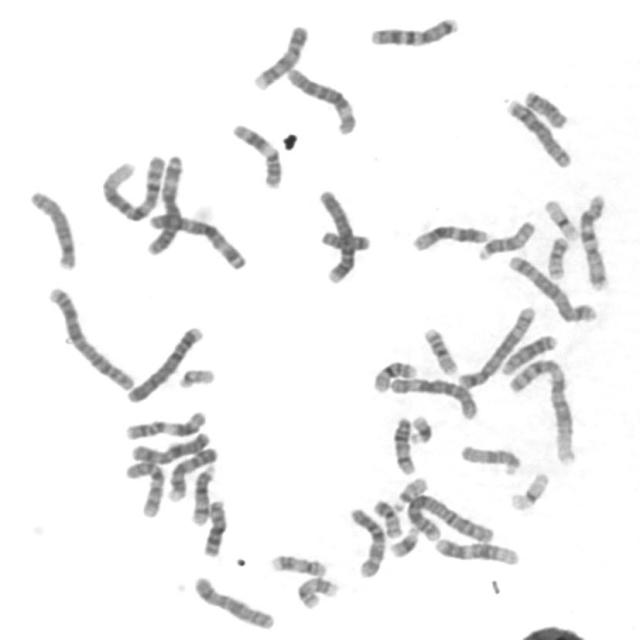A1: (504, 354, 579, 466), (96, 151, 167, 223)
A2: (43, 281, 136, 392), (401, 489, 496, 545)
A3: (142, 208, 248, 272), (142, 150, 186, 256)
B4: (122, 321, 205, 405), (313, 184, 358, 285)
B5: (454, 301, 538, 390), (504, 250, 599, 324)
C10: (344, 502, 388, 580), (120, 455, 166, 520)
C11: (227, 119, 284, 190), (120, 406, 208, 442)
C12: (429, 534, 521, 568), (407, 220, 491, 252)
C6: (282, 62, 358, 136), (385, 372, 480, 420)
C7: (574, 189, 612, 292), (364, 12, 460, 48)
C8: (501, 94, 573, 170), (24, 185, 78, 272)
C9: (248, 21, 310, 91), (163, 443, 220, 503)
D13: (496, 329, 559, 376), (198, 494, 228, 558)
D14: (187, 459, 218, 526), (388, 412, 418, 476)
D15: (473, 215, 537, 262), (456, 440, 522, 477)
E16: (418, 322, 459, 377), (367, 356, 418, 394)
E17: (265, 549, 329, 579), (292, 573, 340, 611)
E18: (519, 84, 570, 130), (317, 225, 373, 252)
F19: (505, 467, 551, 513), (540, 194, 580, 242)
F20: (369, 495, 404, 540), (543, 232, 571, 280)
G21: (386, 522, 420, 560), (405, 411, 435, 446)
G22: (388, 472, 430, 512), (174, 363, 217, 390)
X: (188, 571, 277, 631), (126, 427, 212, 465)
